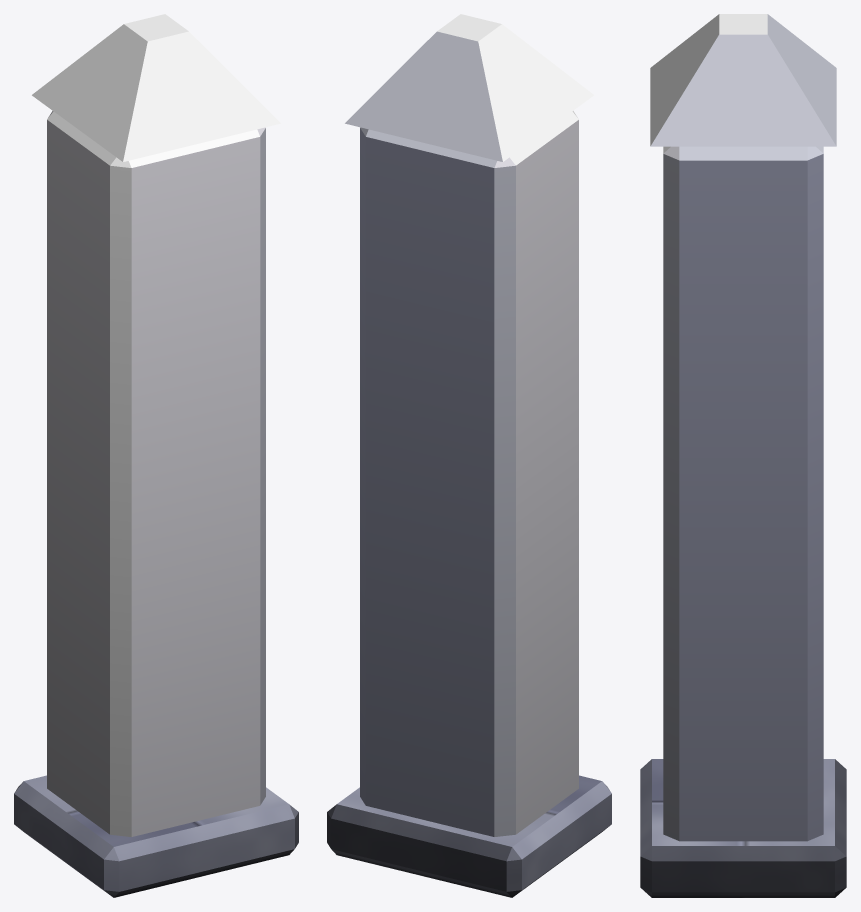
File: fence_post.glb
3 renders of one model, left to right at view 1: azimuth 30°, elevation 25°; view 2: azimuth 150°, elevation 25°; view 3: azimuth 270°, elevation 25°, orthographic.
Parts seen in each view (by area): view 1: fence_post; view 2: fence_post; view 3: fence_post.
Boxes of the visible parts, x1,y1,x2,y2 form: fence_post: (14,14,298,897); fence_post: (327,14,611,897); fence_post: (640,14,846,897).
Size of the model in its own units: 0.2 by 0.802 by 0.18.
3 materials, 3 textured.
